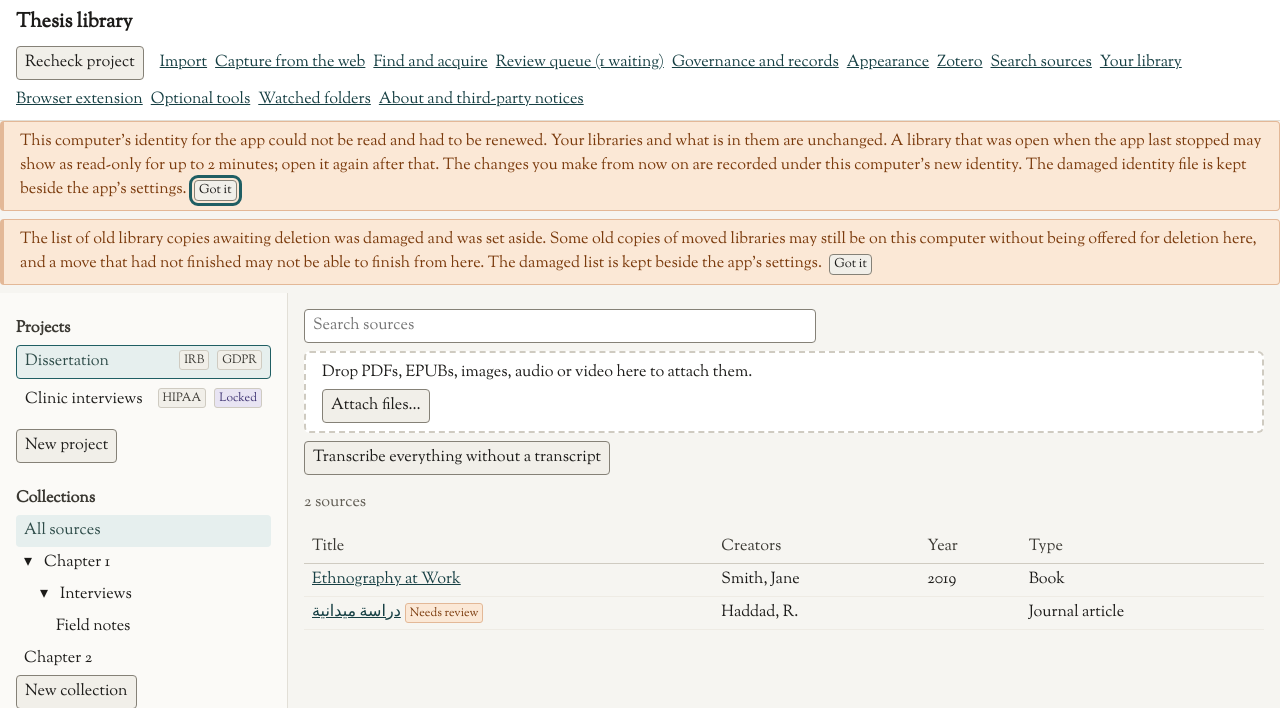
device-level notices in the banner area › “Got it” asks the service once to remove that notice; the banner goes; focus does not fall to the page
This screenshot has width=1280, height=708.
Double-click the 1st button "Got it".
double_click(215, 191)  # box [194, 180, 237, 201]
(page scrolled)
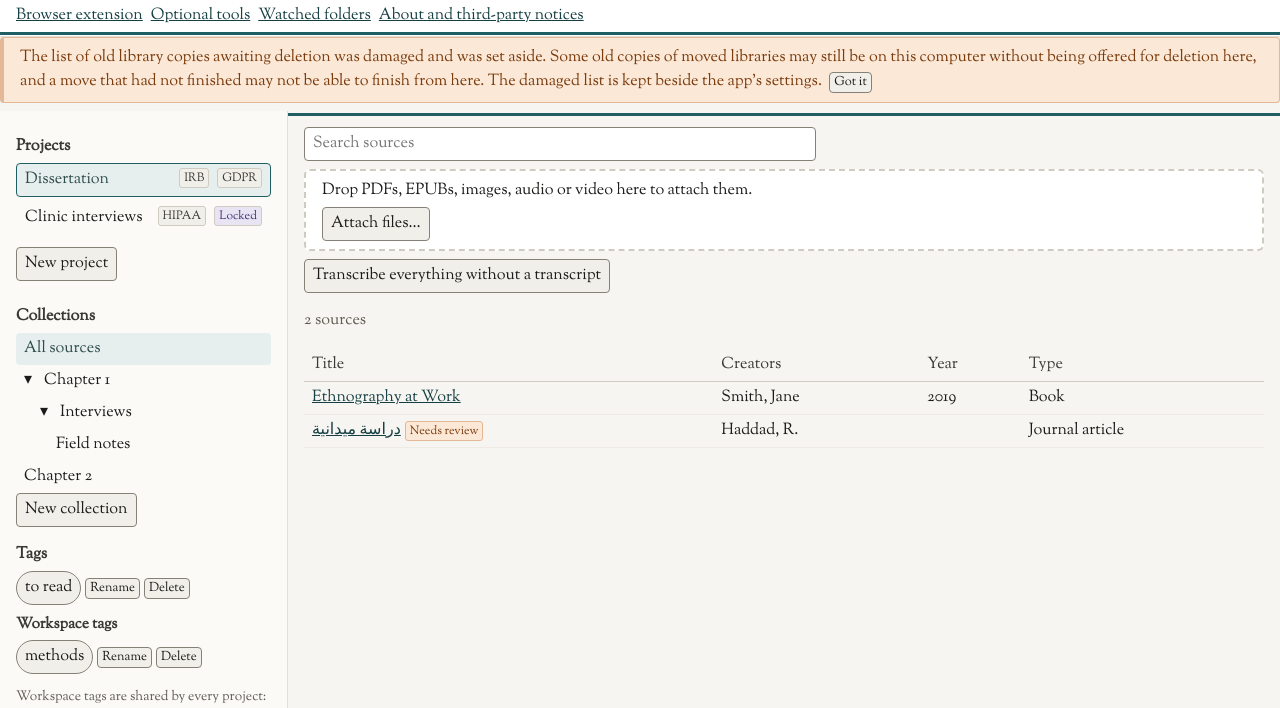
Expected: the text "old library copies awaiting deletion was damaged" is shown, [20, 46, 1256, 93]
Now the text "had to be renewed" is gone
